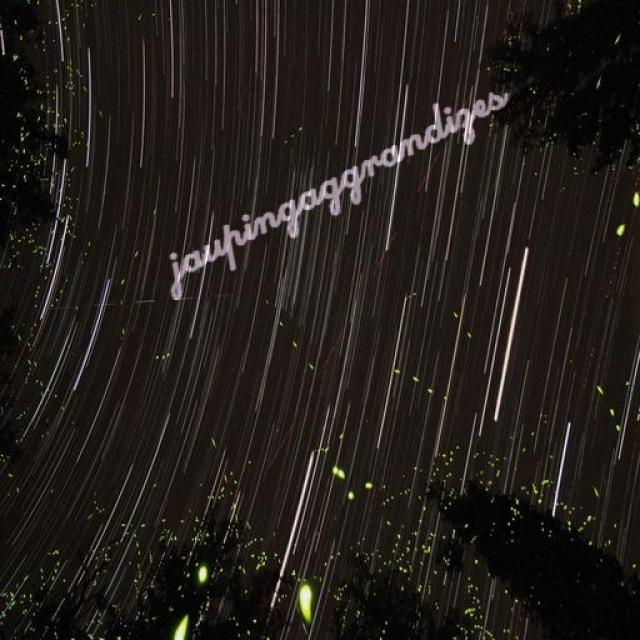watermark: (165, 65, 511, 286)
